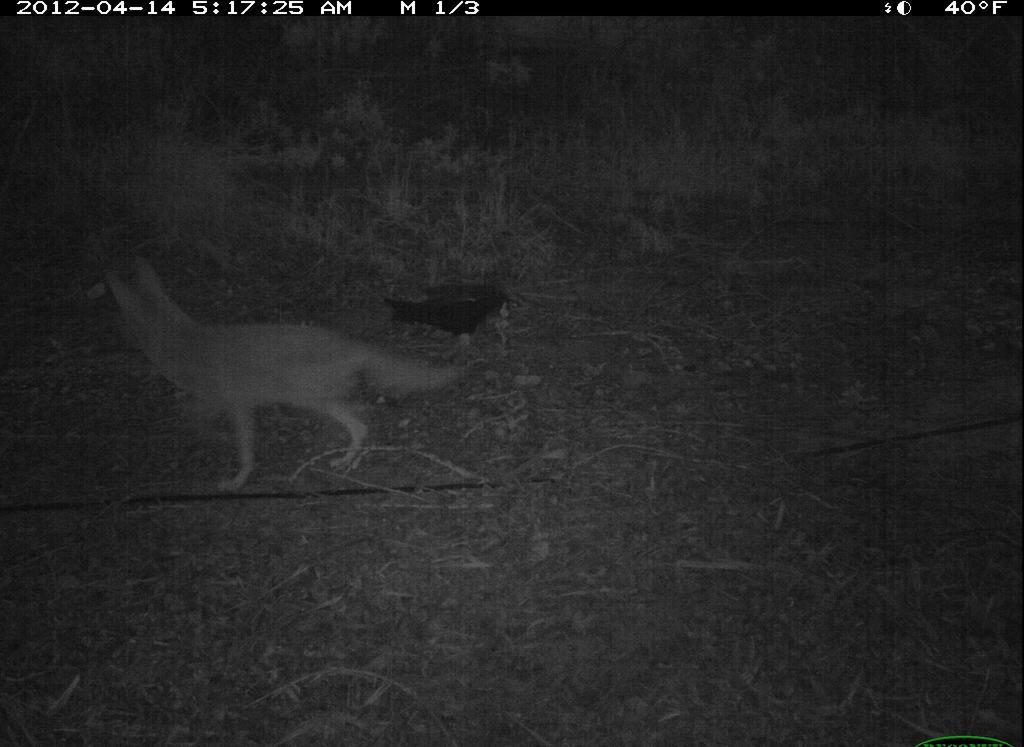coyote: (77, 227, 475, 510)
